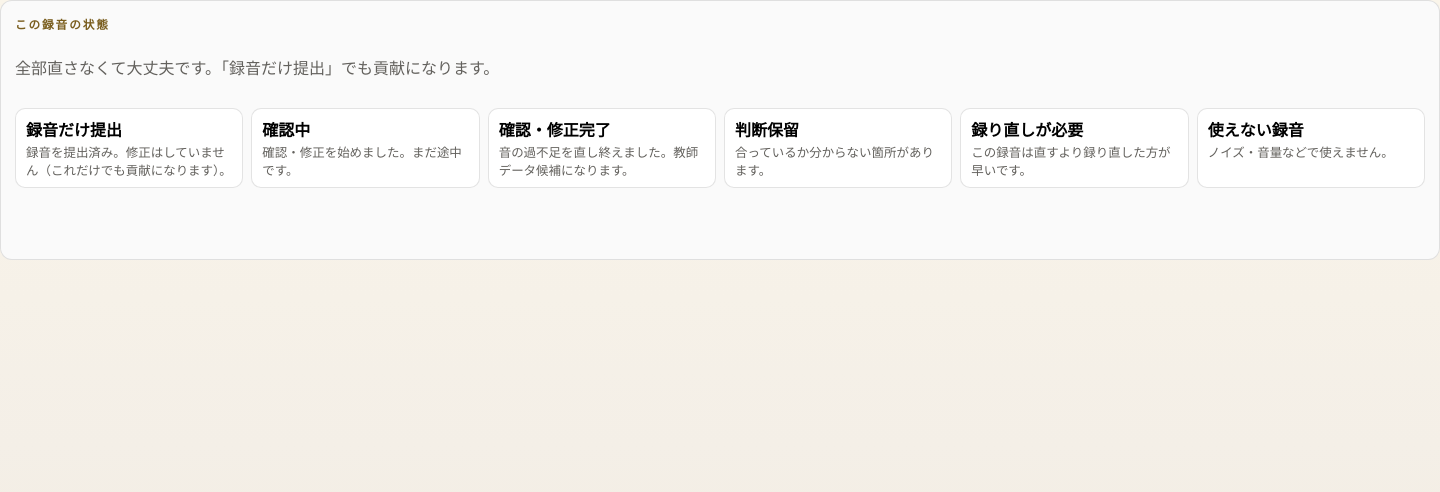
Scenario: ReviewStatusPanel › shows an error message when saving fails
This screenshot has width=1440, height=492.
Click the button "録音だけ提出 録音を提出済み。修正はしていません（これだけでも貢献になります）。" at (129, 148), box [15,108,243,188]
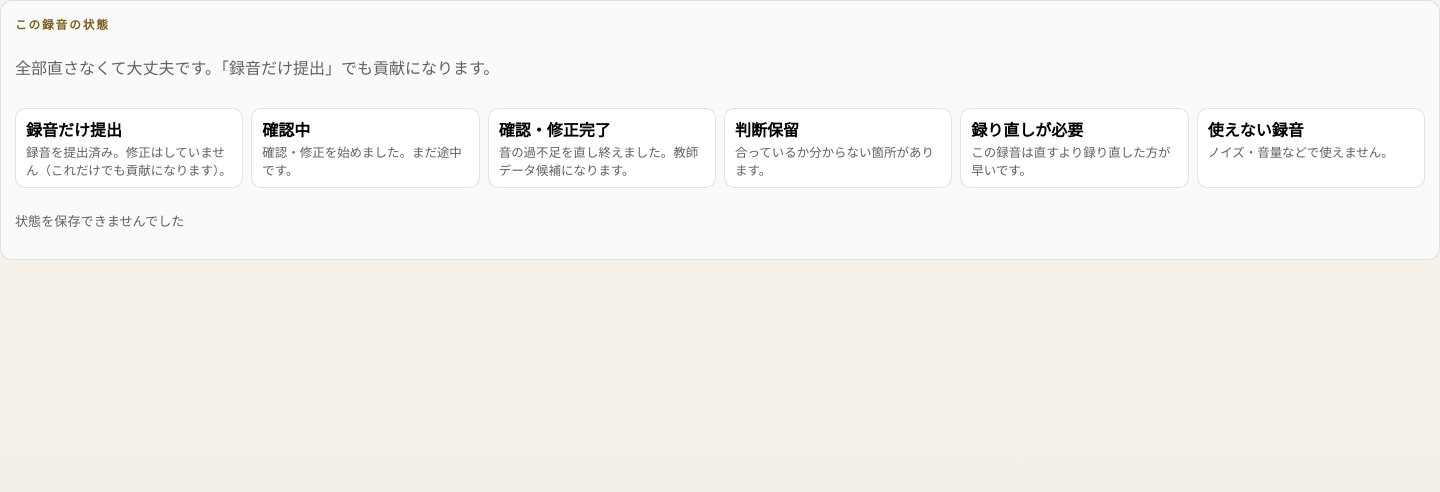
expect the message shows "保存できませんでした": met, box [15,212,184,230]
